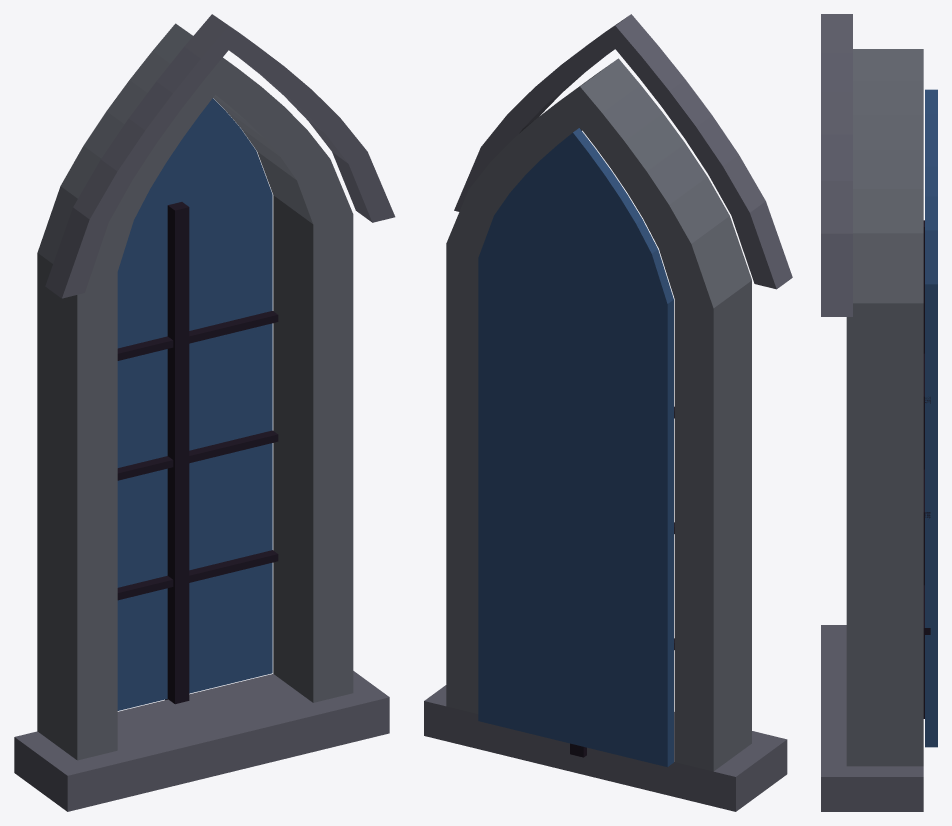
File: kit_church_window.glb
3 views of the same model, side by side, from view 1: azimuth 30°, elevation 25°; view 2: azimuth 150°, elevation 25°; view 3: azimuth 270°, elevation 25° (orthographic). The views are drawn at different scales.
Parts seen in each view (by area): view 1: kit_church_window; view 2: kit_church_window; view 3: kit_church_window.
Part boxes in pixels (x1,y1,x2,y2): kit_church_window: (14, 14, 395, 811); kit_church_window: (424, 14, 792, 811); kit_church_window: (821, 14, 937, 811).
Size of the model in its own units: 0.58 by 1.24 by 0.182.
